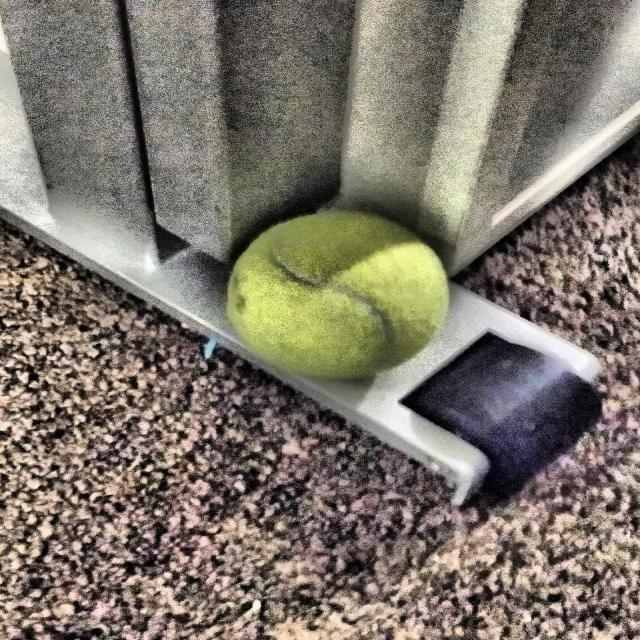tennis-ball: (227, 204, 455, 390)
